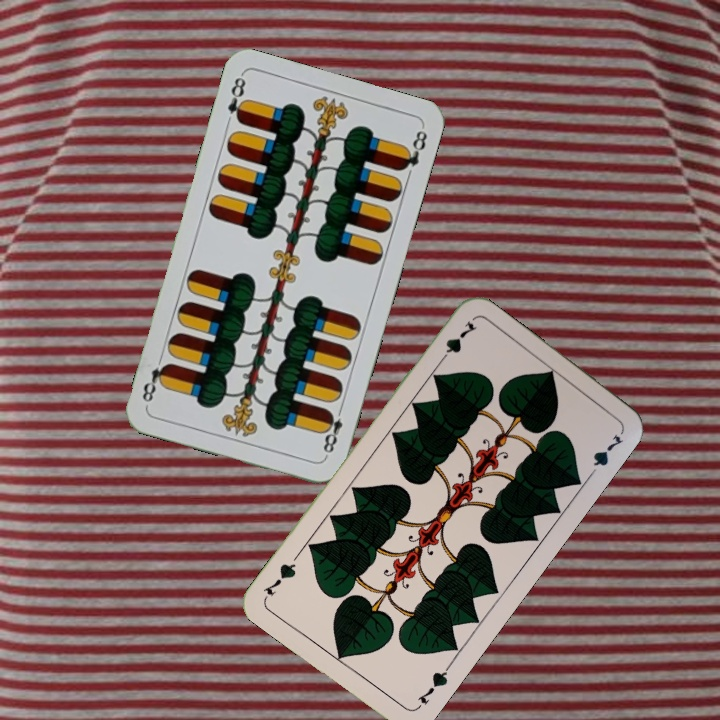E8: (318, 402, 346, 460), (223, 71, 250, 125)
G7: (434, 317, 478, 367), (412, 661, 453, 712)
